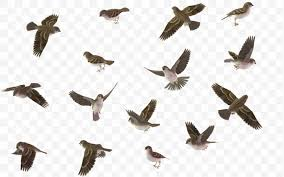hsparrow: (209, 81, 268, 130), (144, 47, 197, 94), (67, 82, 120, 123), (160, 1, 208, 42), (2, 78, 53, 114), (26, 13, 65, 58), (74, 138, 116, 177), (222, 34, 261, 72), (123, 98, 164, 134), (181, 118, 221, 153), (11, 140, 51, 174), (81, 47, 118, 76), (220, 1, 256, 29), (143, 144, 171, 171), (96, 7, 136, 25)
